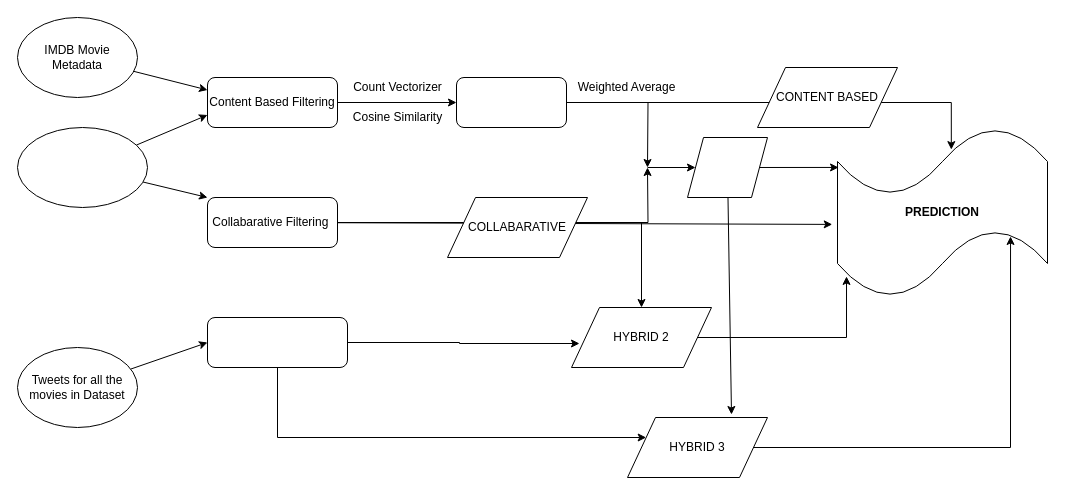
This 1065x495 diagram has some shape labels left out. The shapes that lost their labels are listed below. From the top down, each one's centre as x and y in pixels, then its label:
At [511,102]: "Cosine Similarity Matrix".
At [82,167]: "User Ratings".
At [727,167]: "HYBRID 1".
At [277,342]: "Sentiment Analysis".
